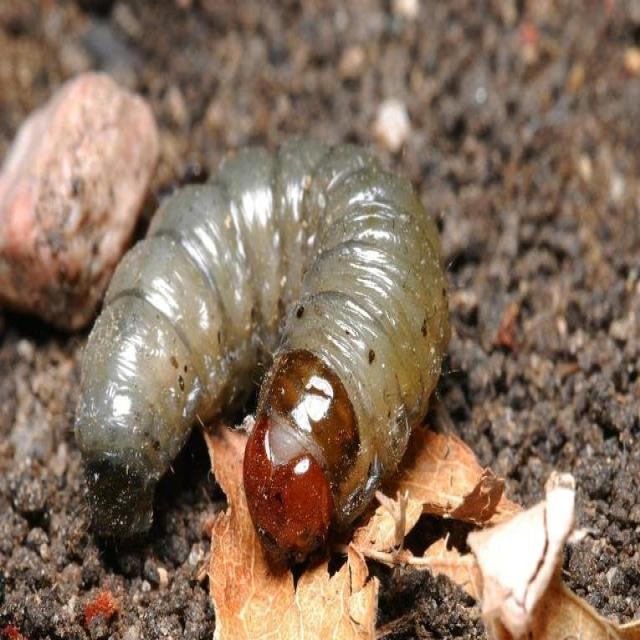worm: (74, 133, 453, 568)
